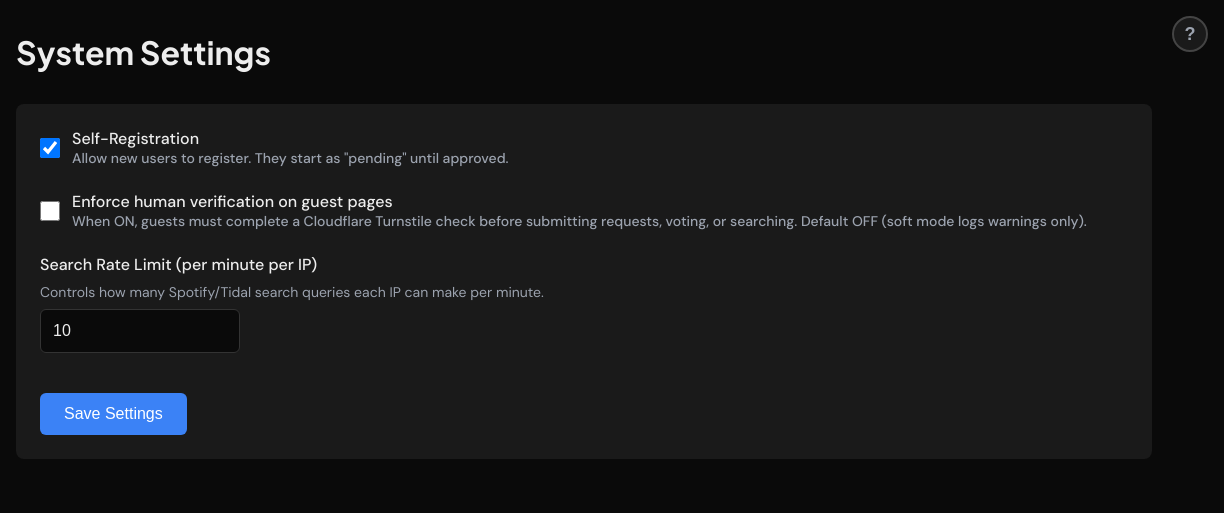
Scenario: AdminSettingsPage › shows error when save fails and UI remains editable
What coordinates should you click on to do the following:
click the button "Save Settings"
I would click on:
 (113, 414)
Its box is [40,393,187,435].
Wait 100 ms
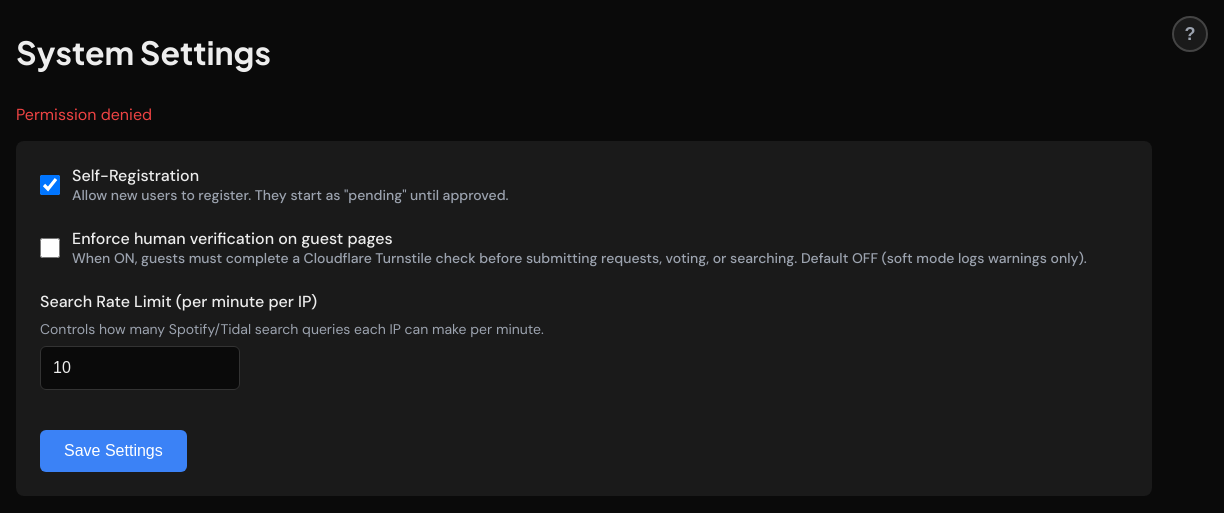
Expected: the button "Save Settings" is enabled, [40,430,187,472]
Expected: the text "Permission denied" is shown, [16,104,152,125]
